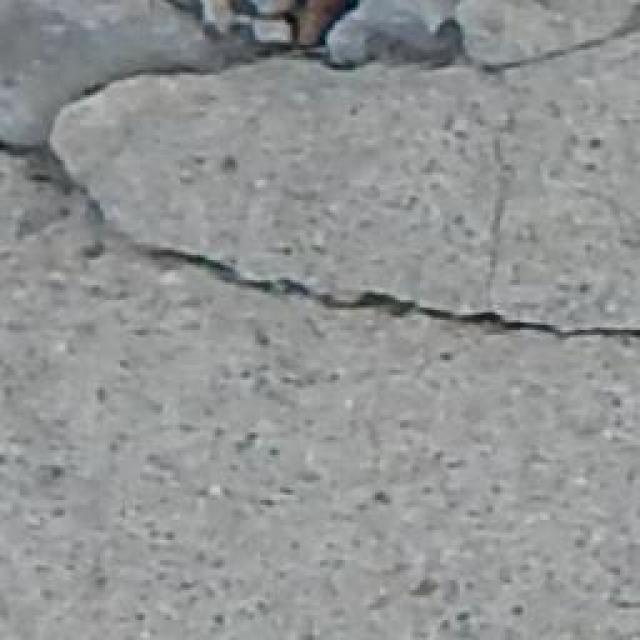concrete-crack: (1, 0, 640, 347)
